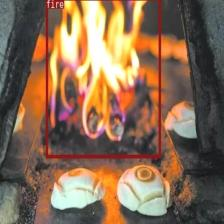fire: (45, 0, 160, 158)
